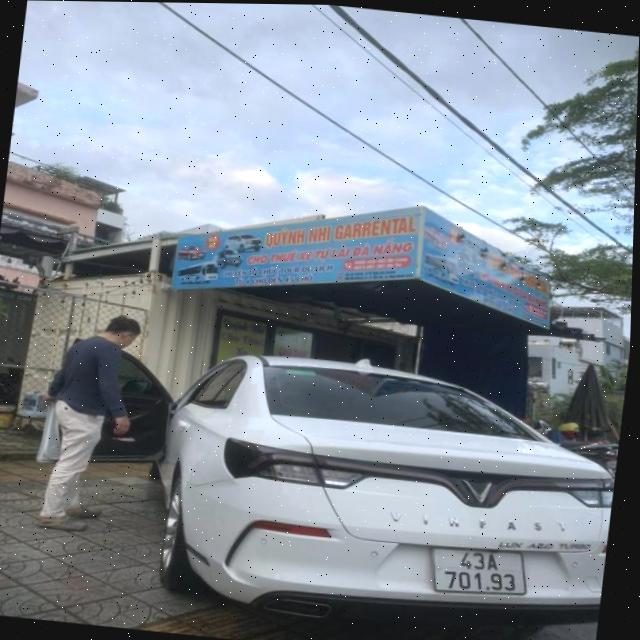car: (134, 328, 624, 640)
plate: (418, 534, 538, 607)
